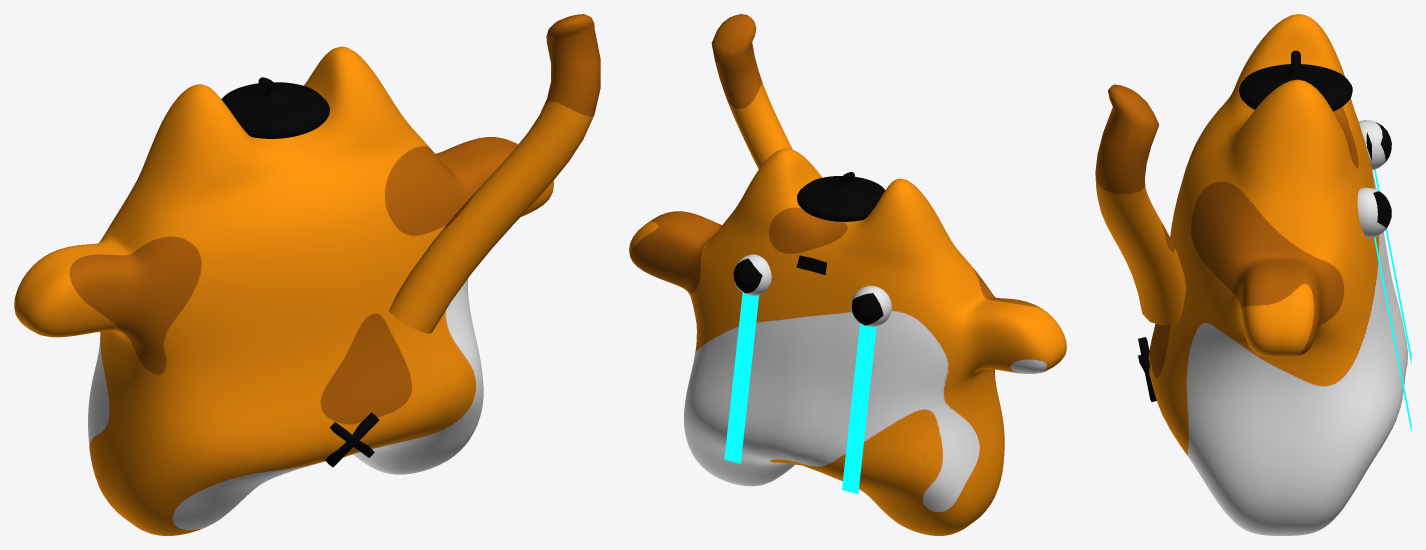
File: cat_v7_anim_walk.fbx
3 renders of one model, left to right at view 1: azimuth 30°, elevation 25°; view 2: azimuth 150°, elevation 25°; view 3: azimuth 270°, elevation 25°, orthographic. The views are drawn at different scales.
Parts seen in each view (by area): view 1: Cube; view 2: Cube; view 3: Cube.
Boxes of the visible parts, x1,y1,x2,y2 form: Cube: [14, 14, 600, 535]; Cube: [629, 14, 1066, 535]; Cube: [1095, 14, 1411, 535].
Size of the model in its own units: 365 by 326 by 191.
